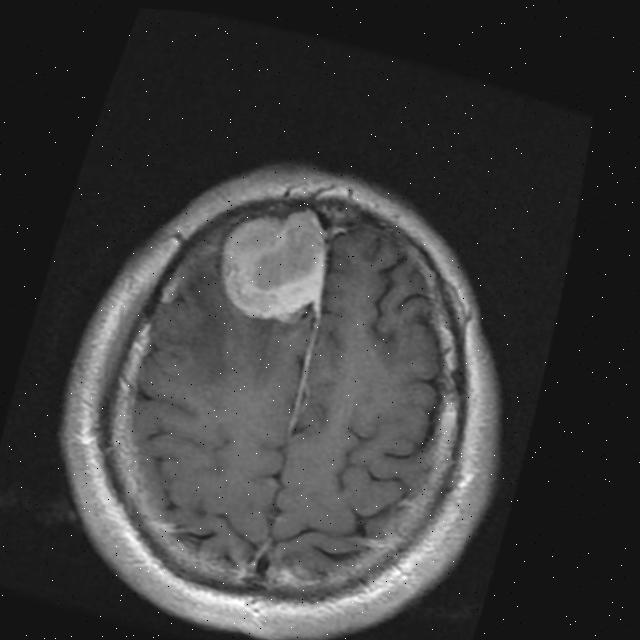Meningioma: (203, 186, 353, 338)
